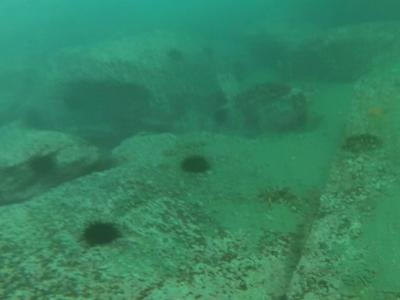holothurian: (262, 188, 301, 213)
urchin: (82, 221, 119, 245), (182, 156, 208, 173)
